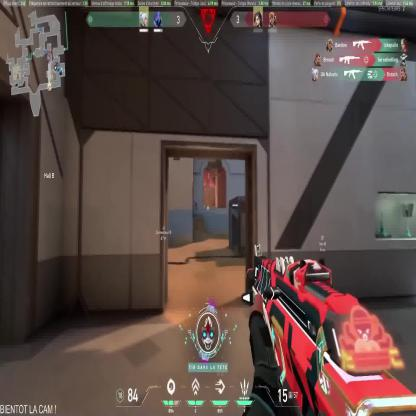enemy: (203, 204, 205, 214)
enemy_head: (203, 204, 205, 207)
